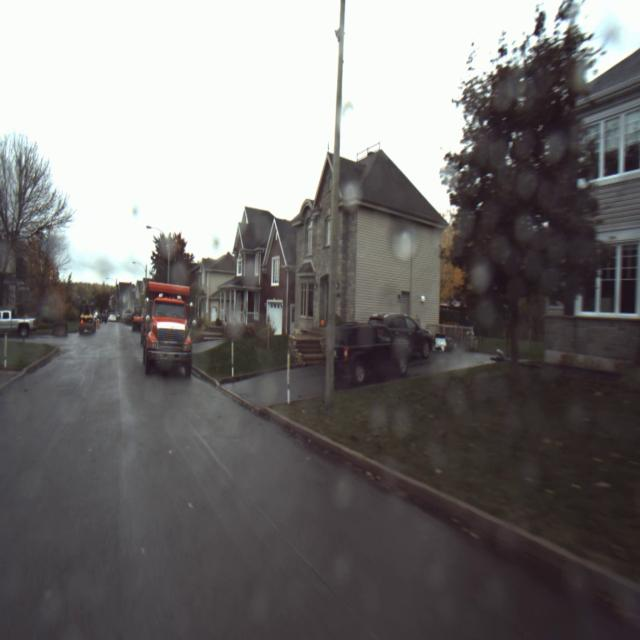truck: (133, 279, 205, 385)
